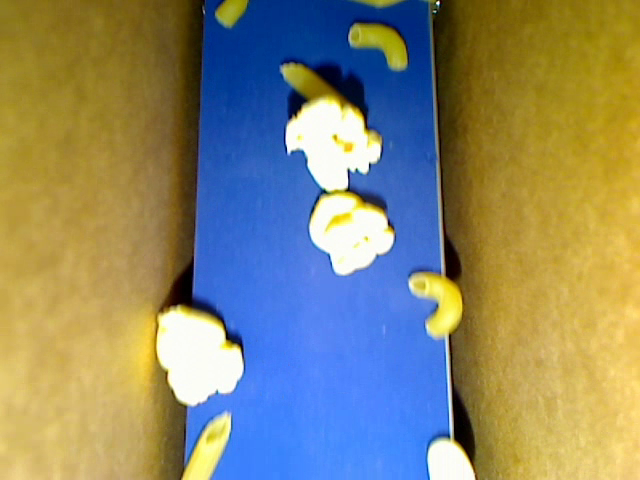elbow: (408, 271, 463, 339), (348, 23, 406, 69)
penne: (180, 411, 232, 479), (280, 62, 351, 105)
